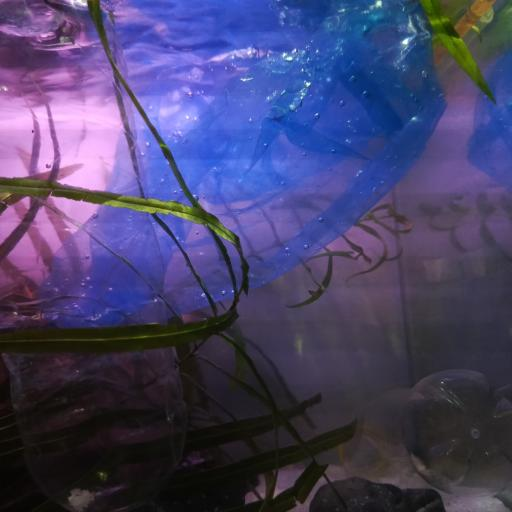plastic_bag: (35, 3, 446, 328)
plastic_bottle: (0, 0, 189, 512), (335, 368, 512, 495)
plastic_straw: (434, 0, 496, 70)
